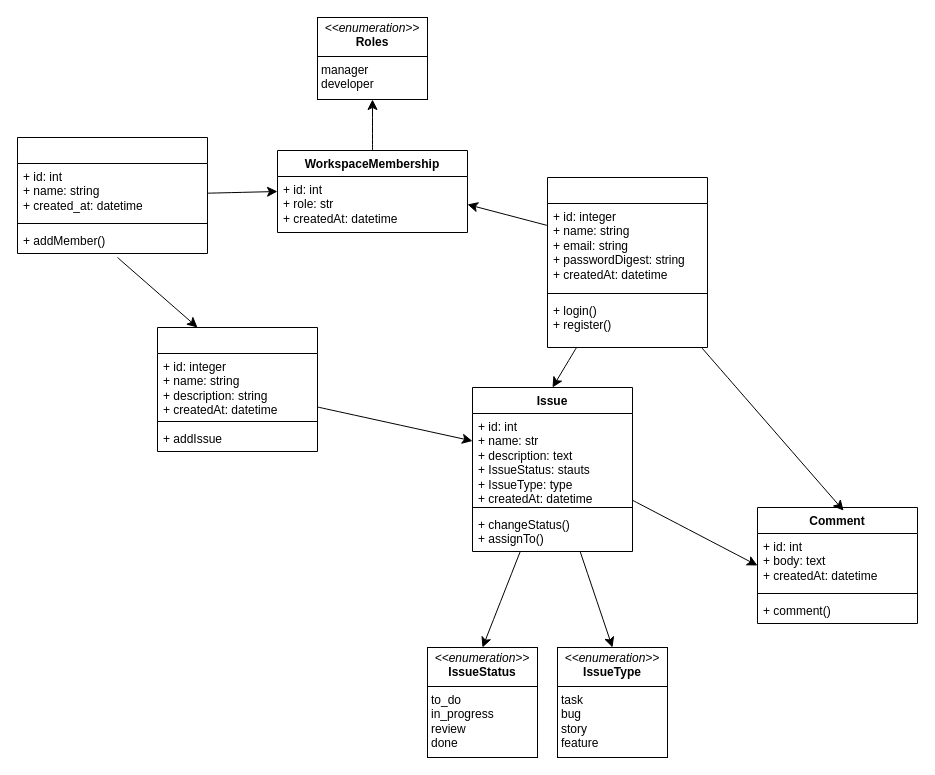
The diagram is 935 pixels wide and 775 high, and some of its shapes have lost their labels. The shapes that lost their labels are listed below. From the top down, each one's box as (x1, y1, x2, y2) in pixels, then its label:
(16, 136, 208, 254): Workspace
(546, 176, 708, 348): User
(156, 326, 318, 452): Project
